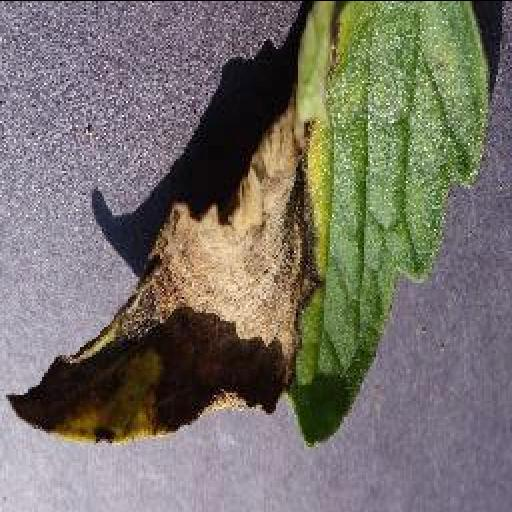disease_tomato: (4, 0, 492, 454)
